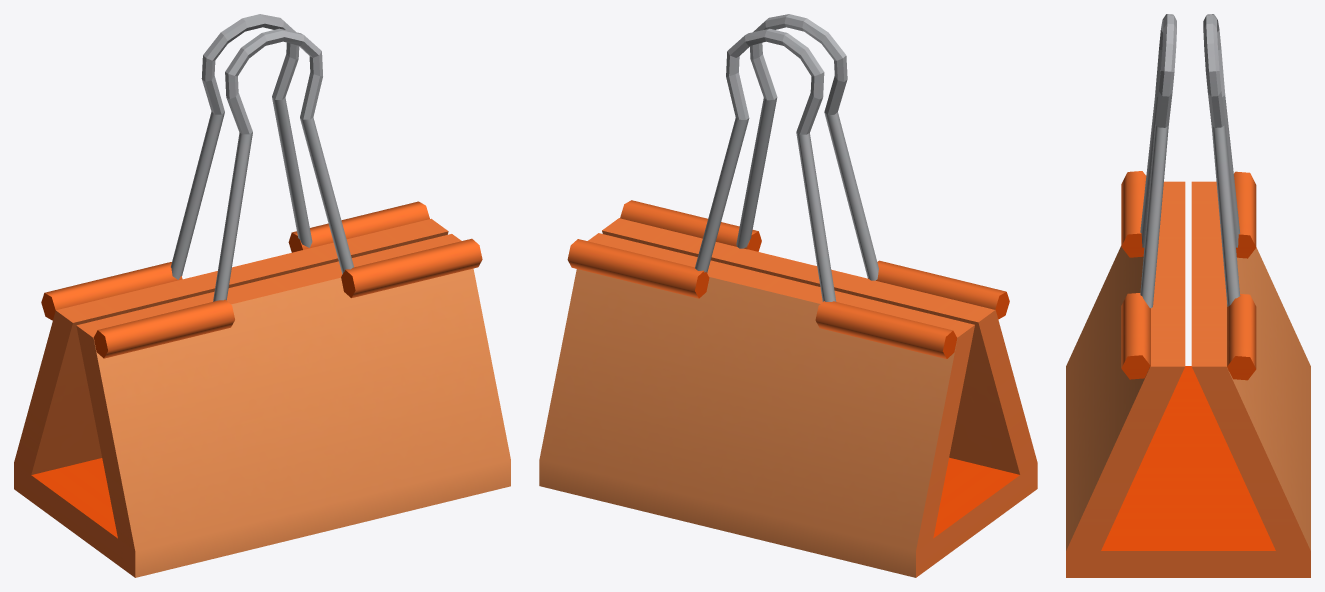
Rendered from SM_Clip002.fbx.
3 views of the same model, side by side, from view 1: azimuth 30°, elevation 25°; view 2: azimuth 150°, elevation 25°; view 3: azimuth 270°, elevation 25° (orthographic).
Parts seen in each view (by area): view 1: SM_Clip002; view 2: SM_Clip002; view 3: SM_Clip002.
Part boxes in pixels (x1=…): SM_Clip002: x1=14, y1=14, x2=510, y2=577; SM_Clip002: x1=539, y1=14, x2=1037, y2=577; SM_Clip002: x1=1066, y1=14, x2=1310, y2=577.
Bounding box in the file's own units: 14.74 × 17.34 × 8.24.
